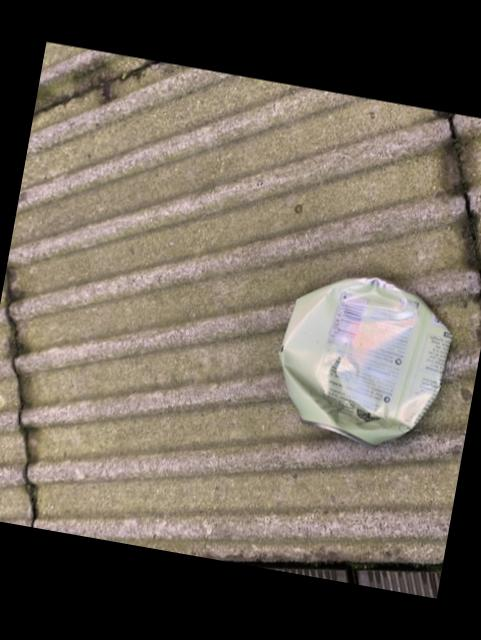metal: (276, 279, 448, 446)
